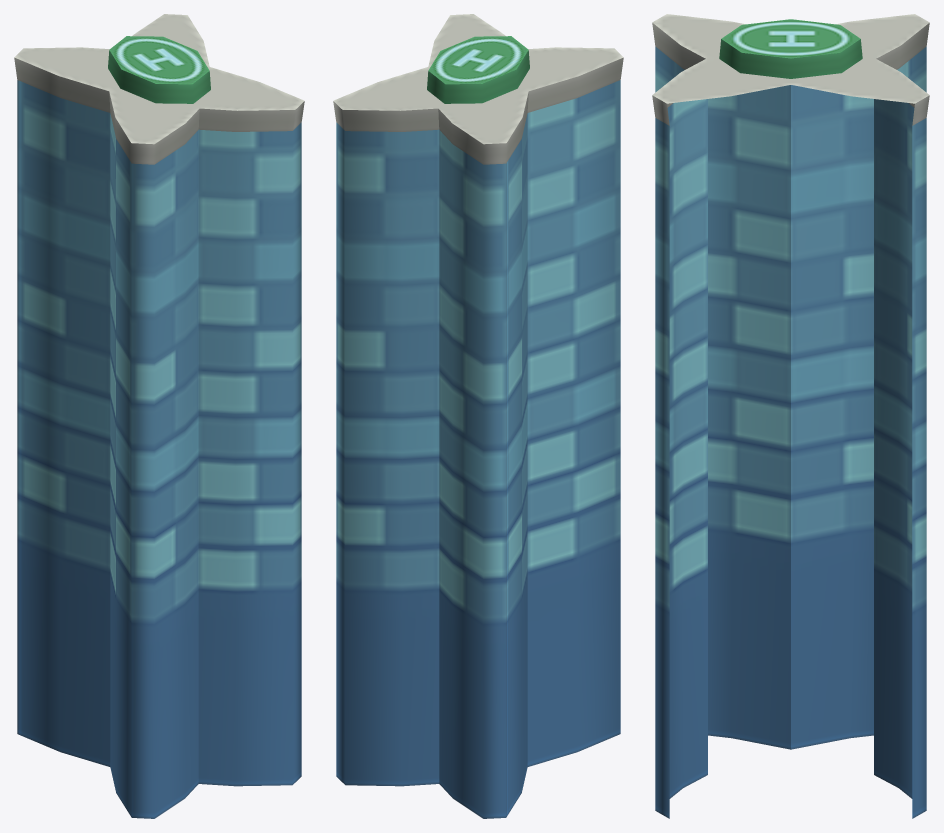
File: MarineCity_Building_B_01.fbx
3 renders of one model, left to right at view 1: azimuth 30°, elevation 25°; view 2: azimuth 150°, elevation 25°; view 3: azimuth 270°, elevation 25°, orthographic. The views are drawn at different scales.
Parts seen in each view (by area): view 1: MarineCity_Building_B_01; view 2: MarineCity_Building_B_01; view 3: MarineCity_Building_B_01.
Part boxes in pixels (x1=…): MarineCity_Building_B_01: x1=14, y1=14, x2=304, y2=818; MarineCity_Building_B_01: x1=333, y1=14, x2=623, y2=818; MarineCity_Building_B_01: x1=652, y1=14, x2=929, y2=818.
Size of the model in its own units: 2884 by 11038 by 3772.
